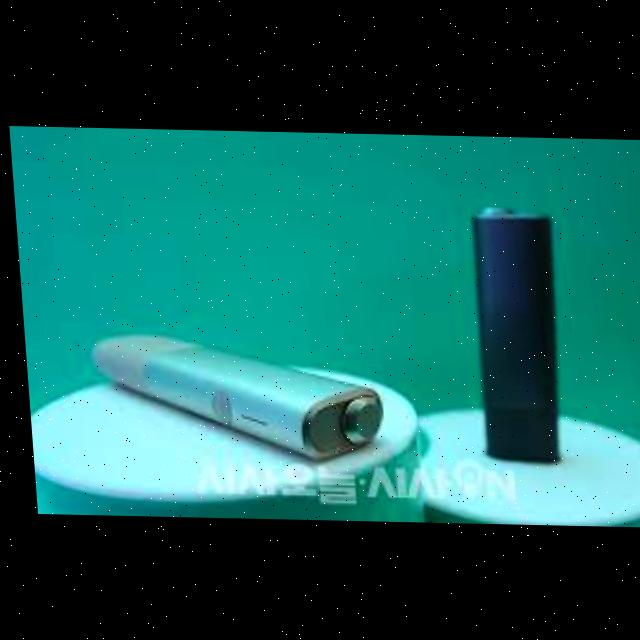vape: (84, 330, 380, 462), (464, 203, 560, 464)
